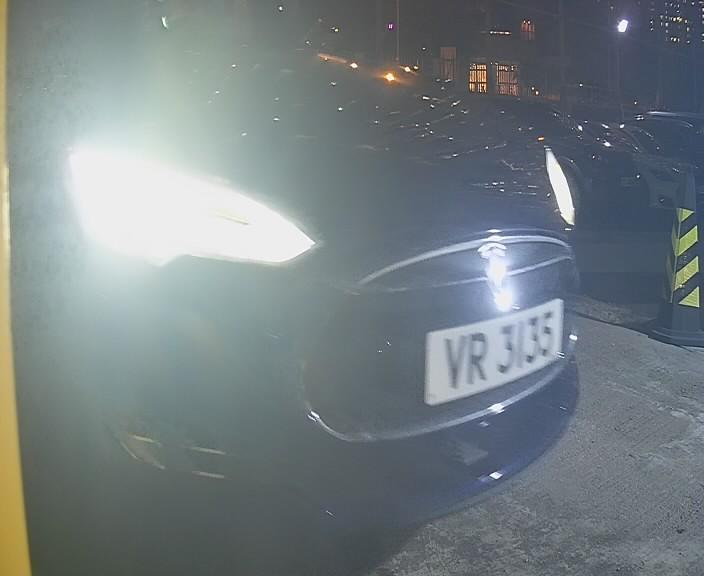License Plate: (415, 282, 578, 415)
